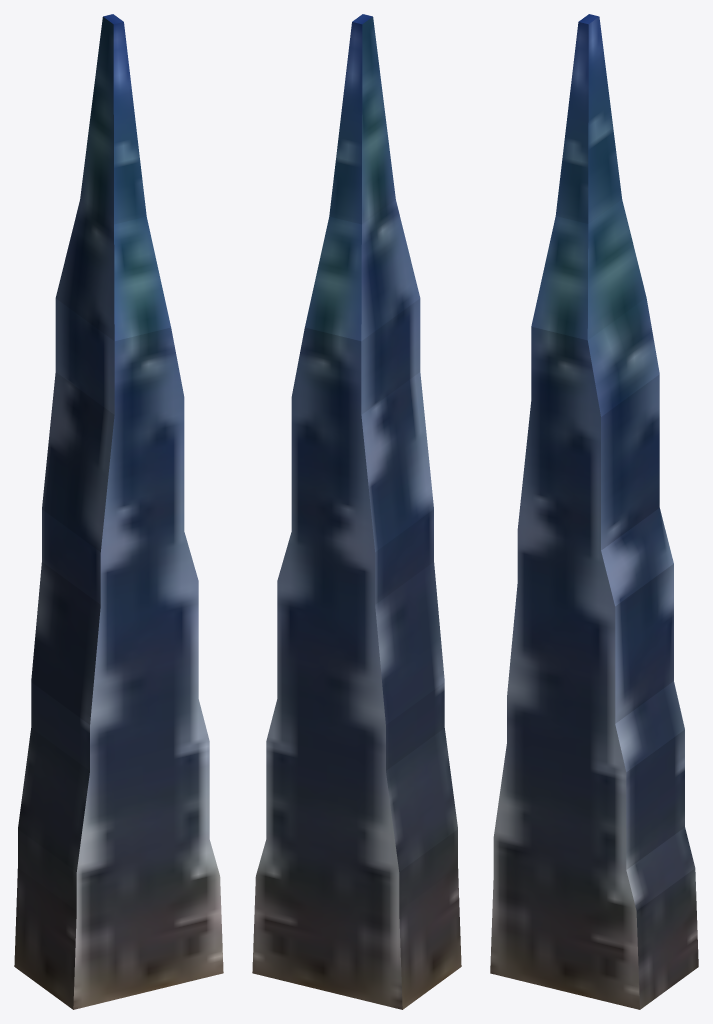
Rendered from bigassskyscraper.fbx.
3 views of the same model, side by side, from view 1: azimuth 30°, elevation 25°; view 2: azimuth 150°, elevation 25°; view 3: azimuth 330°, elevation 25° (orthographic).
Visible parts, largest first — view 1: Cube; view 2: Cube; view 3: Cube.
Boxes of the visible parts, x1=… form: Cube: x1=14, y1=14, x2=223, y2=1009; Cube: x1=252, y1=14, x2=461, y2=1009; Cube: x1=490, y1=14, x2=698, y2=1009.
Bounding box in the file's own units: 143 × 869 × 97.47.
1 material, 1 textured.
